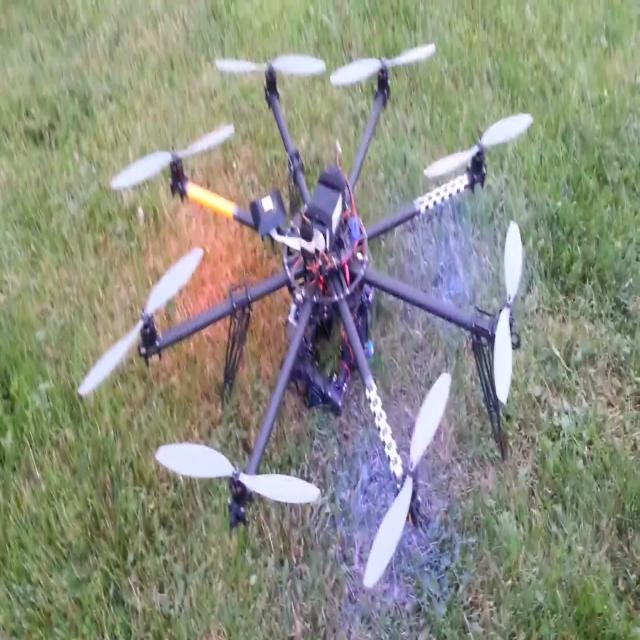drone: (76, 18, 568, 640)
